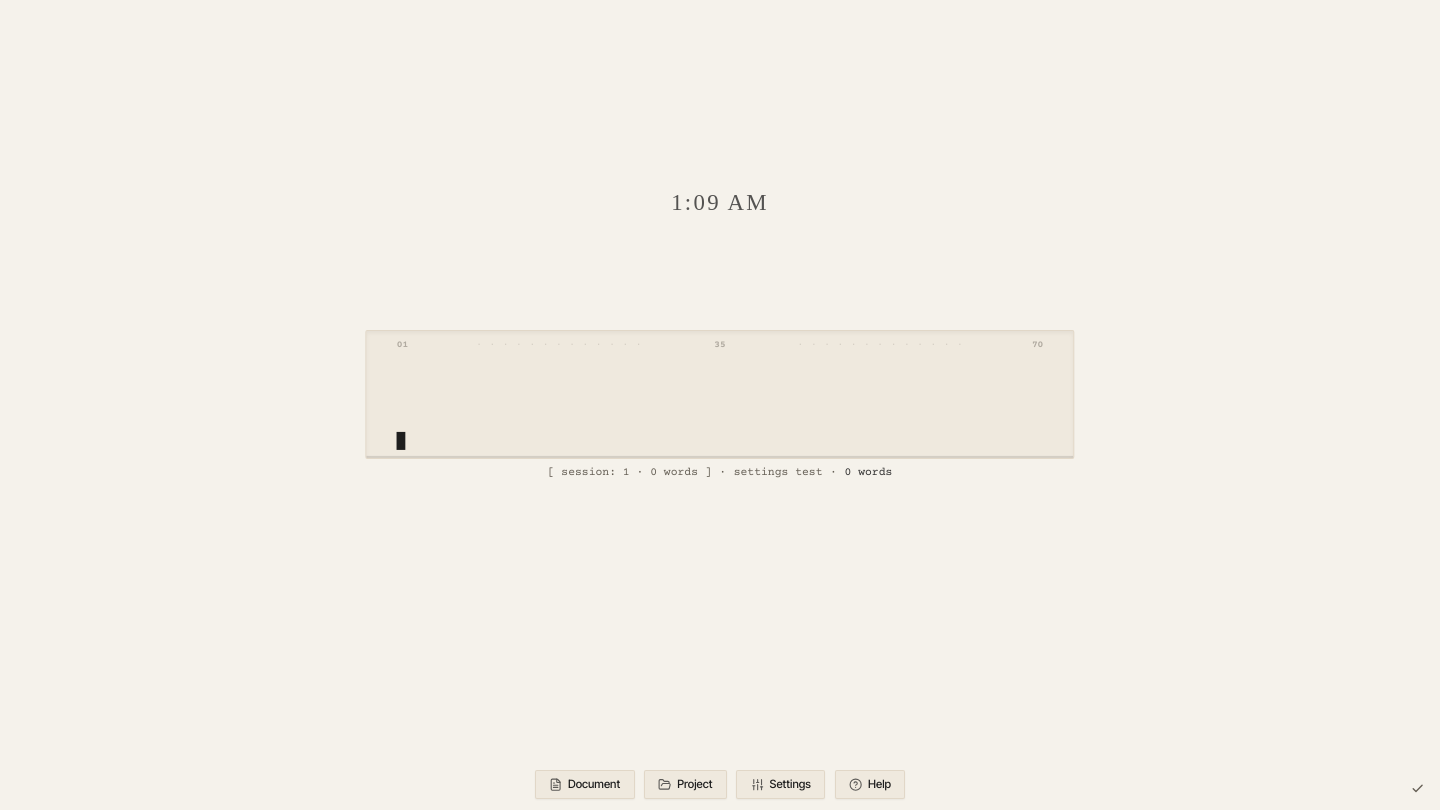
Scenario: Strategy A - Persistent Elevated Deck & Modal Linking › verifies pomodoro audio toggle and timer style buttons have matching height
Step 1. Click the button with aria-label "Settings" → [781, 784], box x1=736 y1=770 x2=825 y2=799
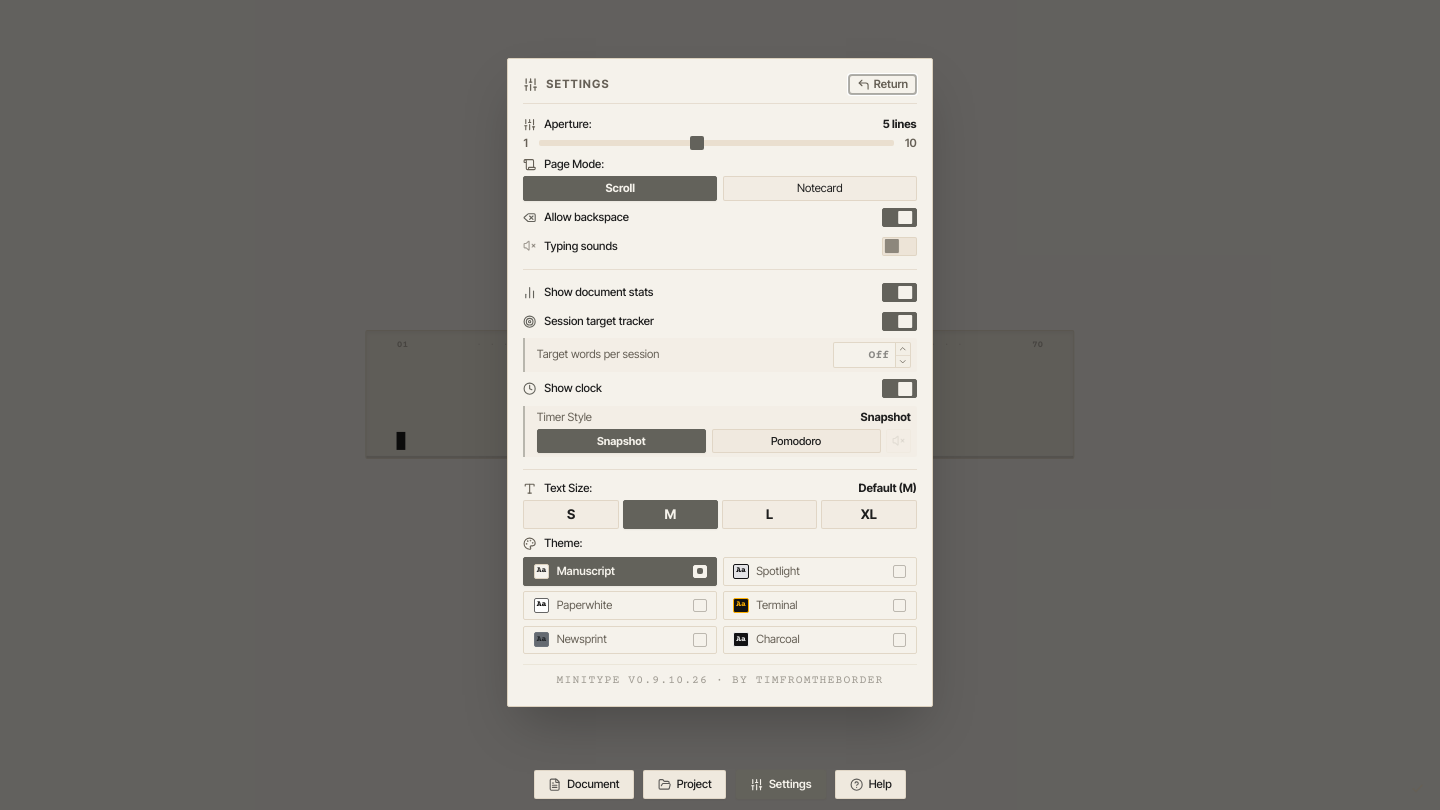
Expected: the button named "Enable Pomodoro audio alerts" is disabled, x1=886 y1=429 x2=911 y2=454
Now the button with class "capitalize" showing "snapshot" is shown, box x1=537 y1=429 x2=706 y2=454
